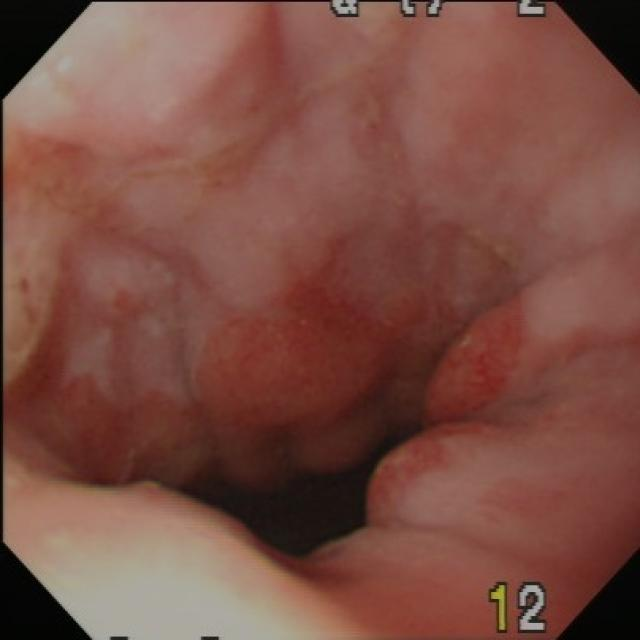A: (15, 138, 161, 329), (232, 261, 359, 386), (437, 325, 527, 407)
E: (147, 400, 429, 571)
S: (327, 3, 549, 20), (489, 581, 551, 636)
